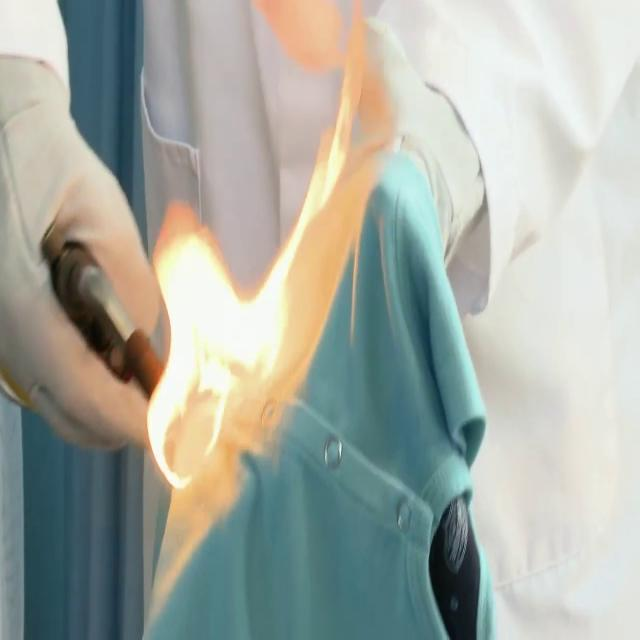Fire: (145, 87, 355, 495)
